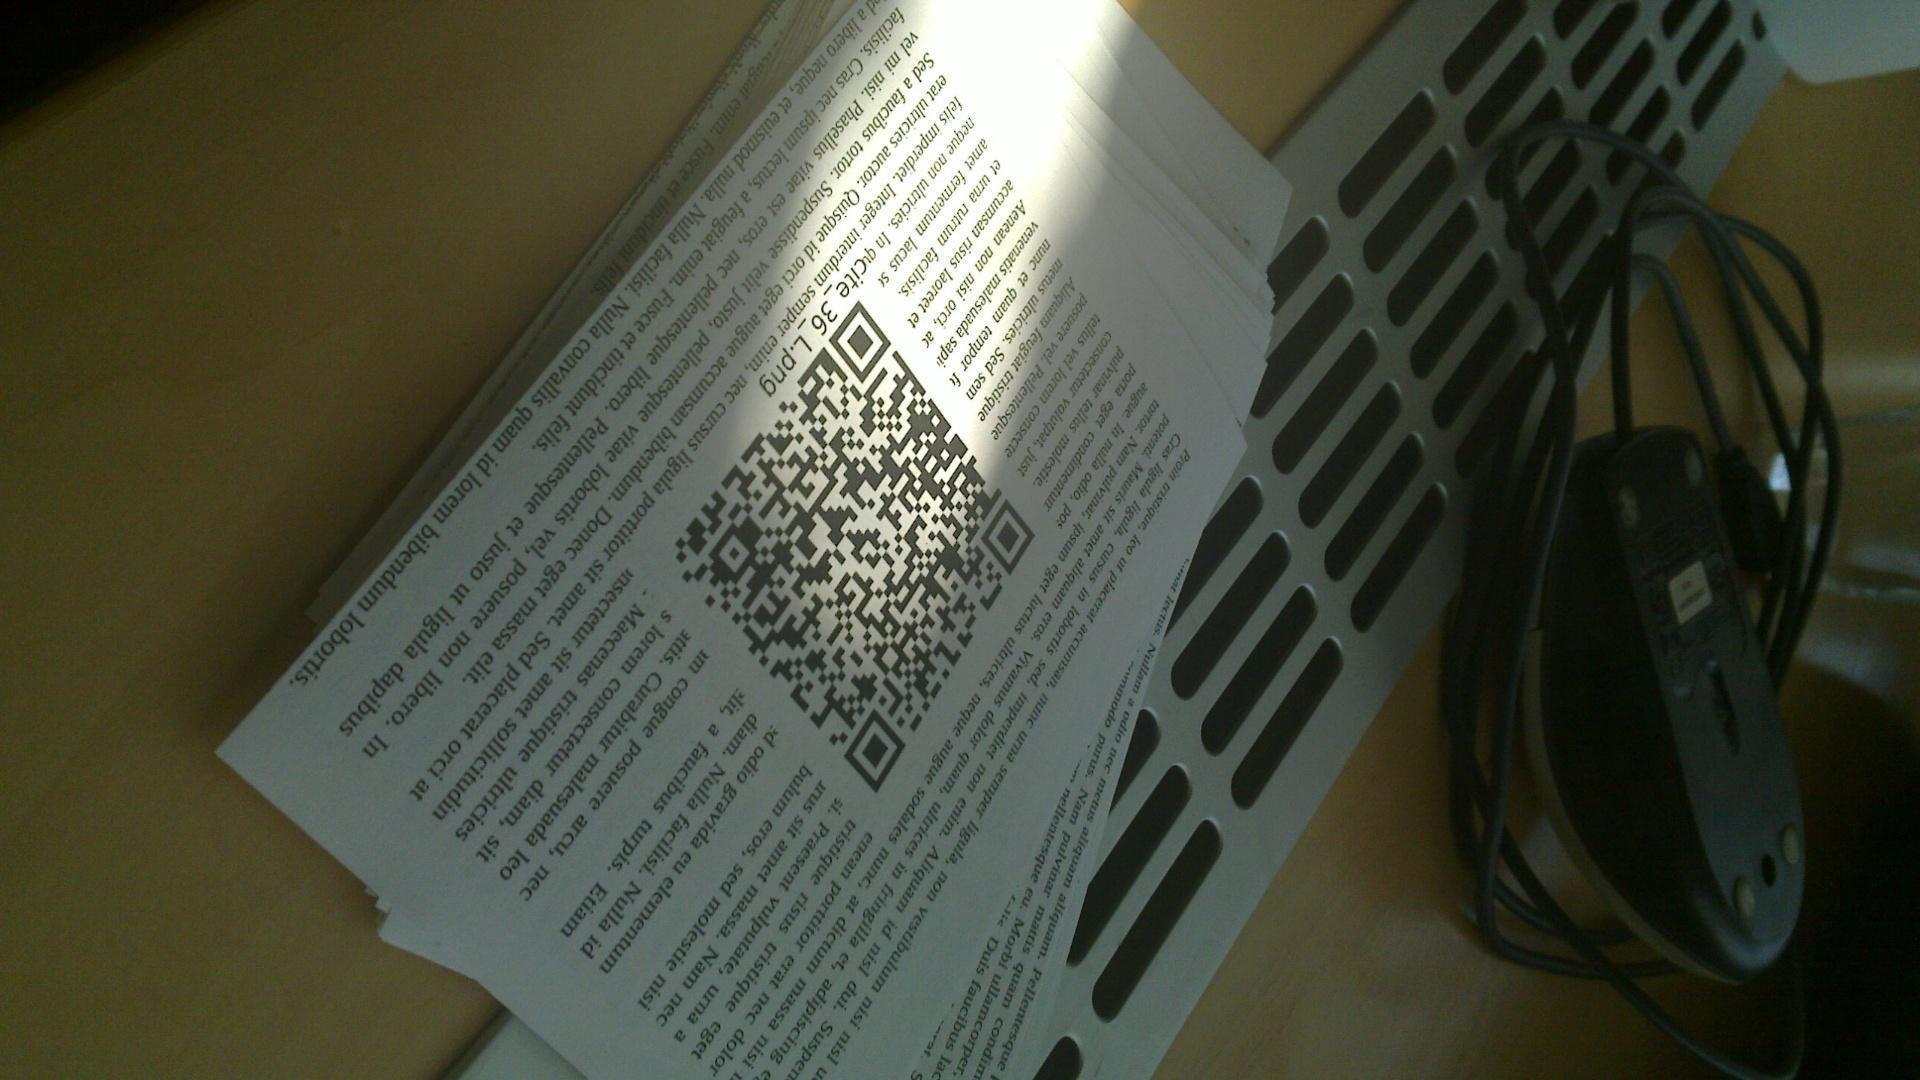qr_code: (669, 301, 1036, 795)
